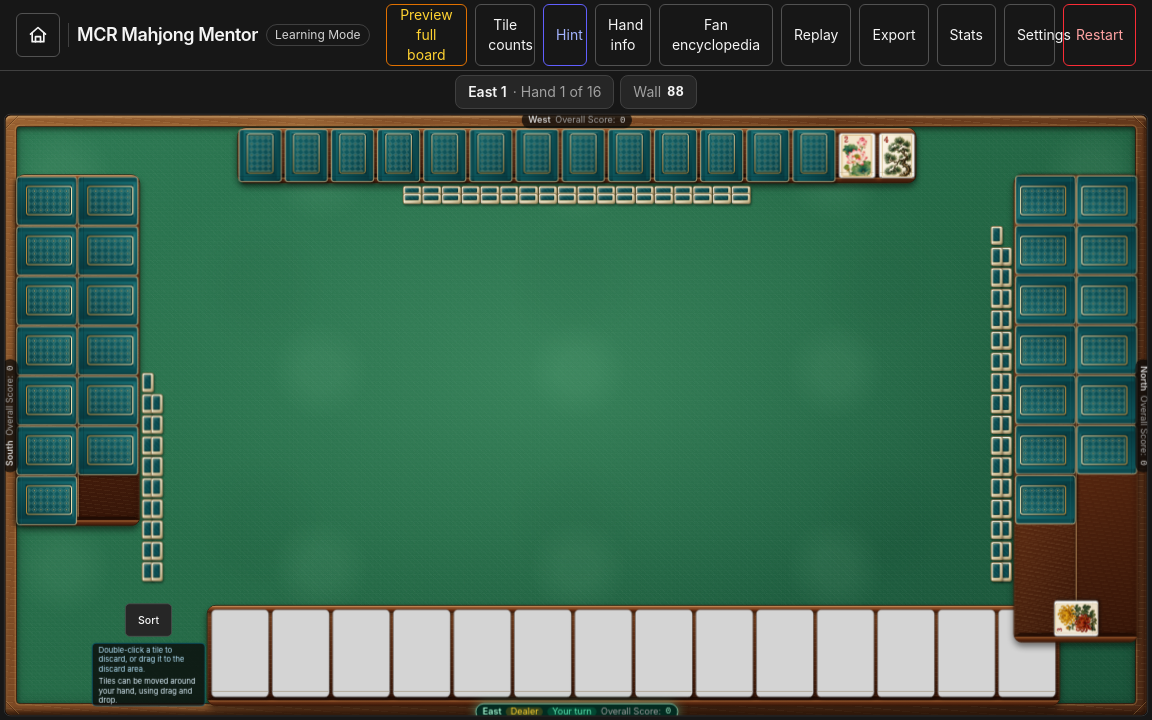
Scenario: App › keeps the fan tracker and waits out of the page flow until Hand info is opened
Expected: the text "Locked in" is not shown
Click the button "Hand info".
click(623, 35)  # box [595, 4, 651, 66]
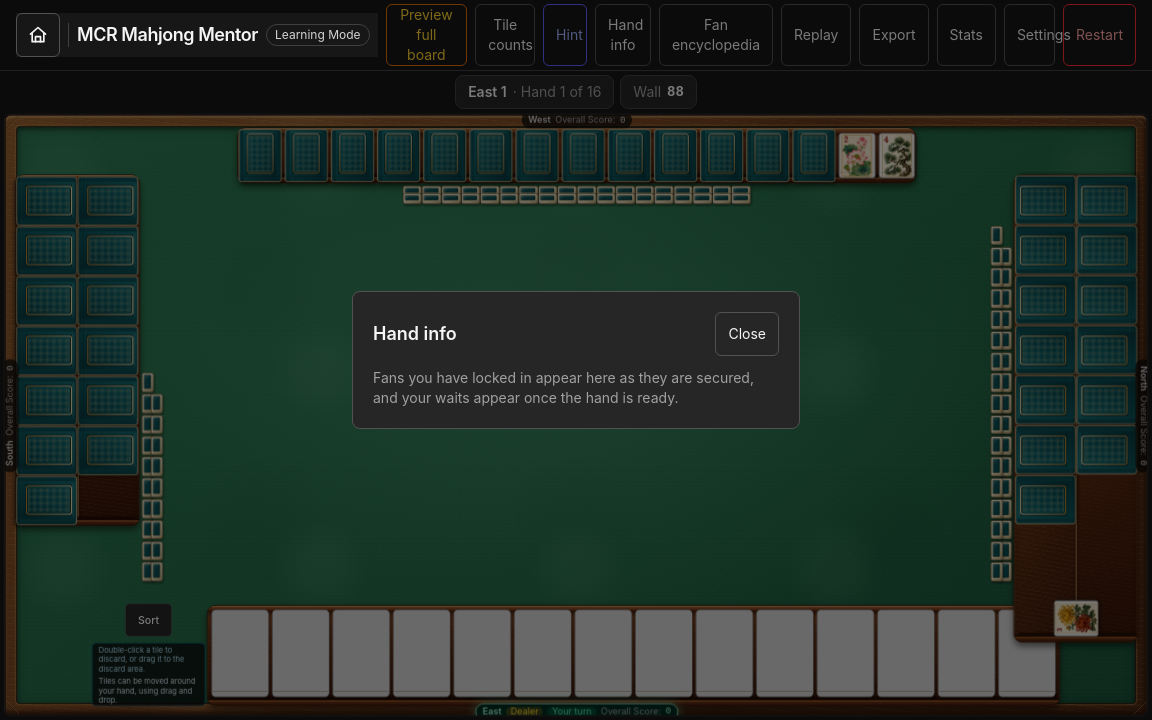
Expected: the dialog "Hand info" is shown, [352, 291, 800, 429]
